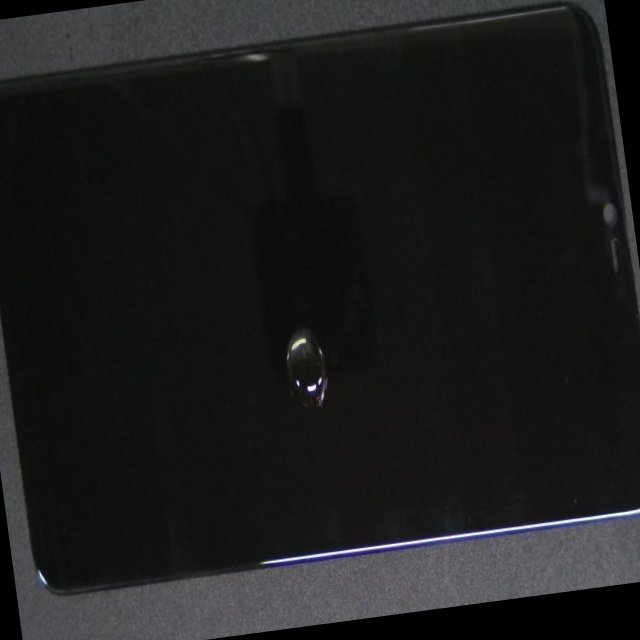oil: (138, 128, 484, 508)
